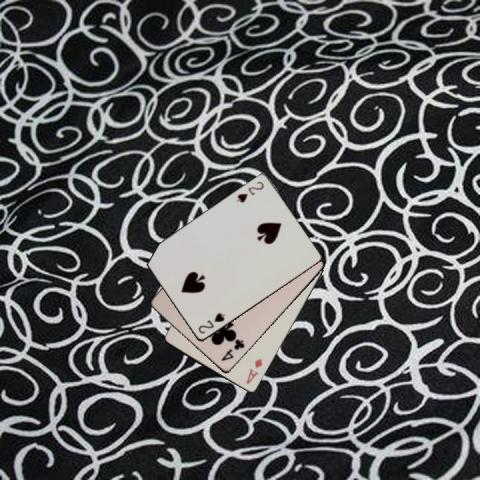2s: (195, 310, 227, 335), (234, 179, 265, 204)
4c: (218, 336, 246, 362)
Ad: (243, 356, 264, 386)
